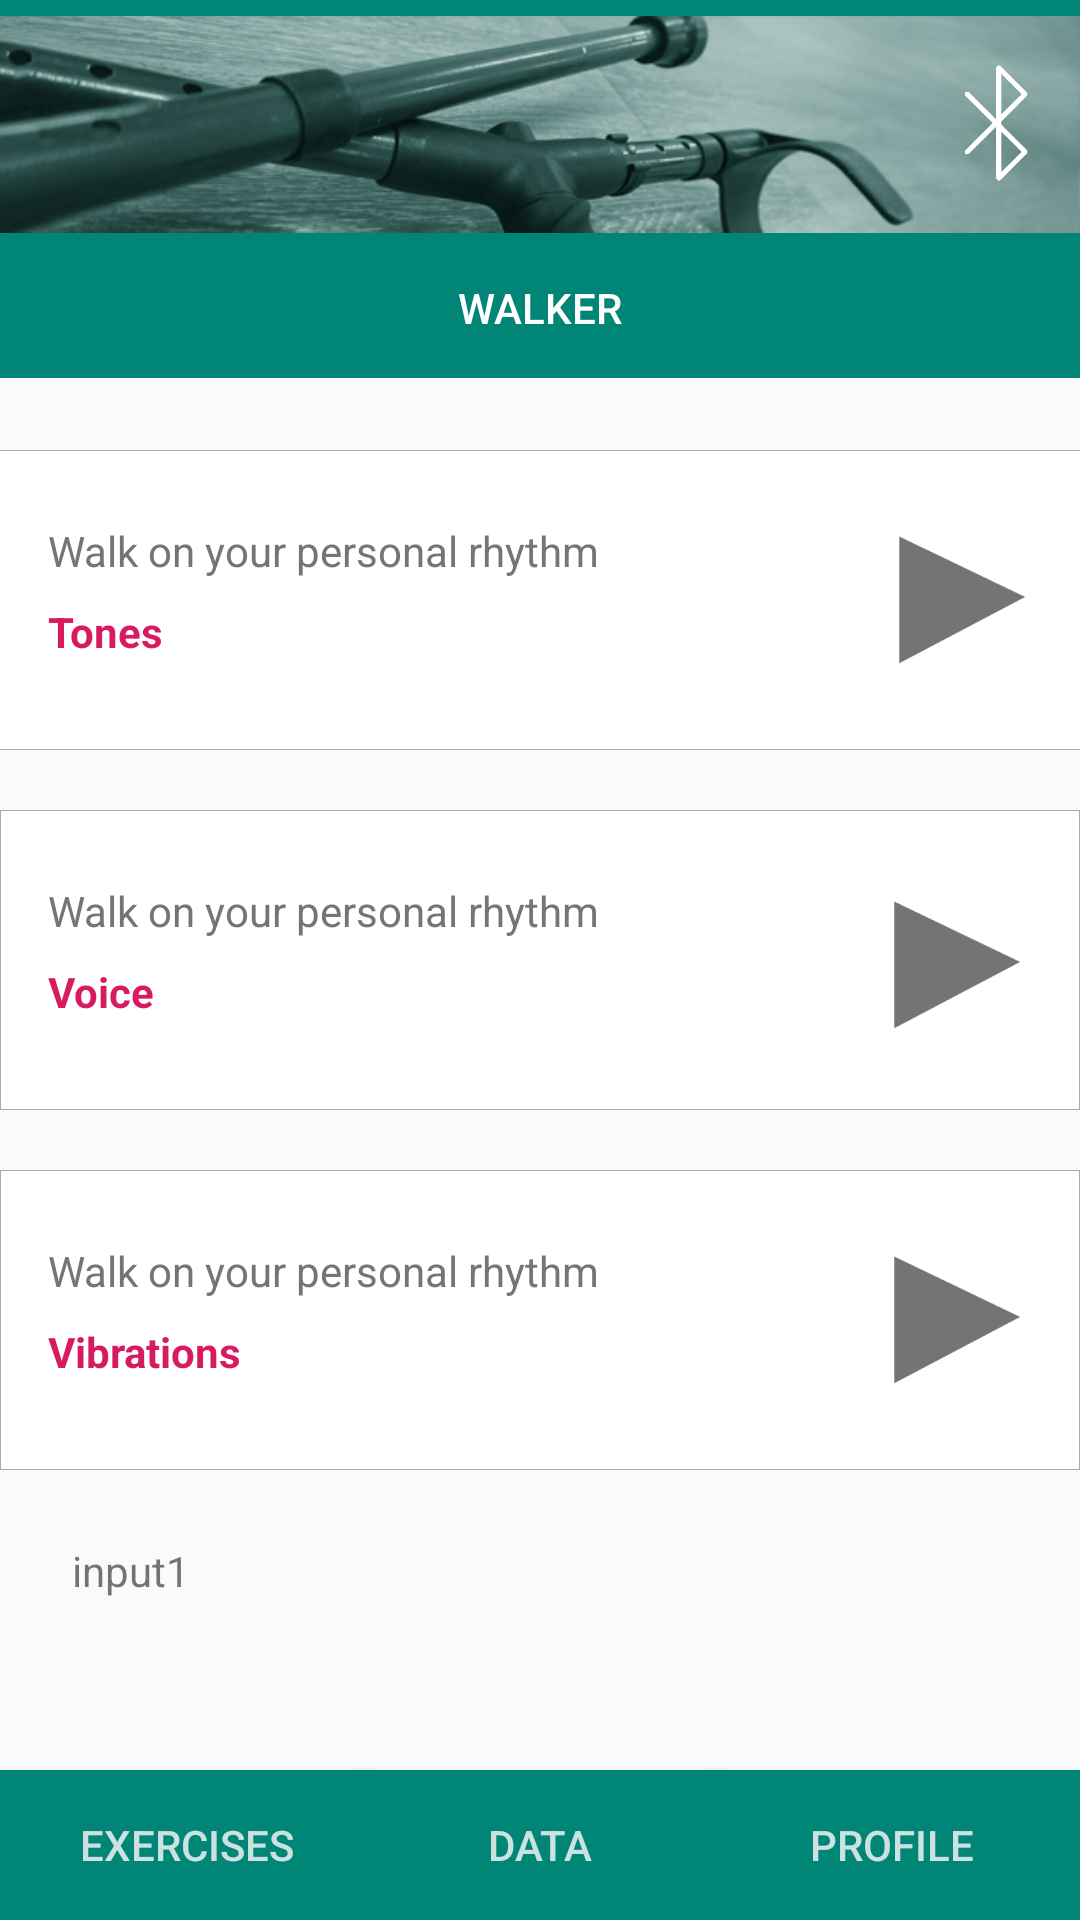

Point at icon controls on the screen. Image size 1080 x 1920, points as point (x, y).
toggle start stop: point (962, 599), point (957, 964), point (957, 1319)
